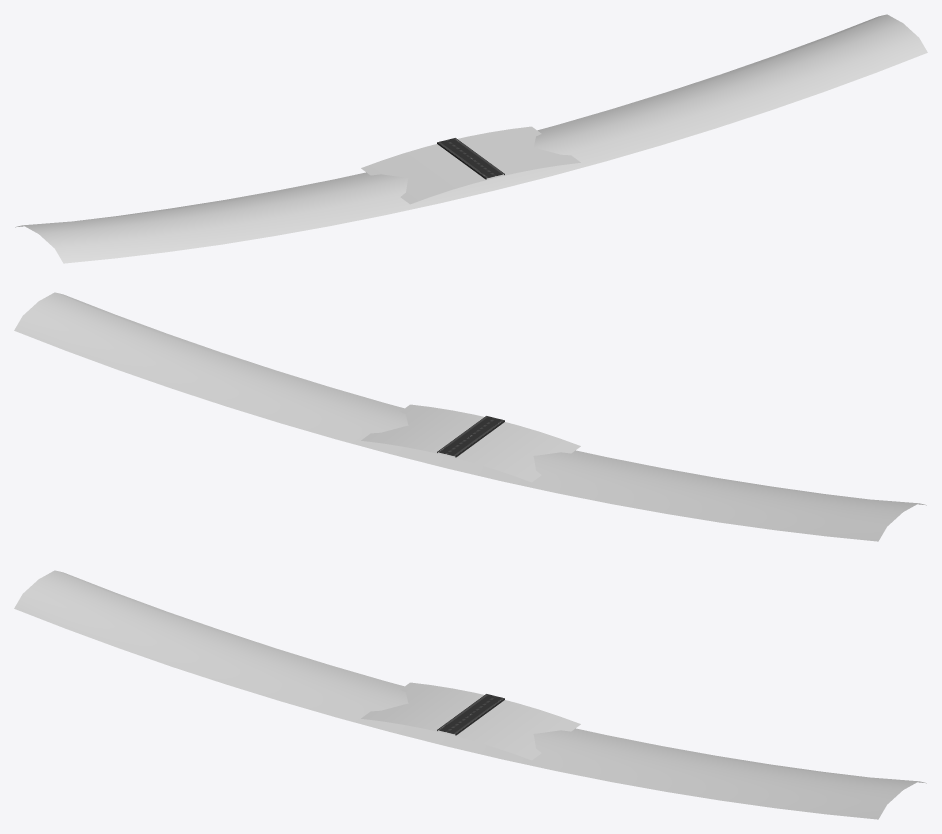
Rendered from flat.FBX.
3 views of the same model, one above another, from view 1: azimuth 30°, elevation 25°; view 2: azimuth 150°, elevation 25°; view 3: azimuth 330°, elevation 25° (orthographic).
Visible parts, largest first — view 1: Plane025, Plane026, Box016; view 2: Plane025, Plane026, Box016; view 3: Plane025, Plane026, Box016.
Boxes of the visible parts, bbox=[...] form: Plane025: bbox=[15, 14, 927, 263]; Plane026: bbox=[361, 126, 580, 204]; Box016: bbox=[437, 138, 504, 179]; Plane025: bbox=[14, 292, 926, 541]; Plane026: bbox=[361, 404, 580, 482]; Box016: bbox=[437, 416, 504, 457]; Plane025: bbox=[14, 570, 926, 819]; Plane026: bbox=[361, 682, 580, 760]; Box016: bbox=[437, 694, 504, 735].
Bounding box in the file's own units: 128985 × 6203 × 12865.
